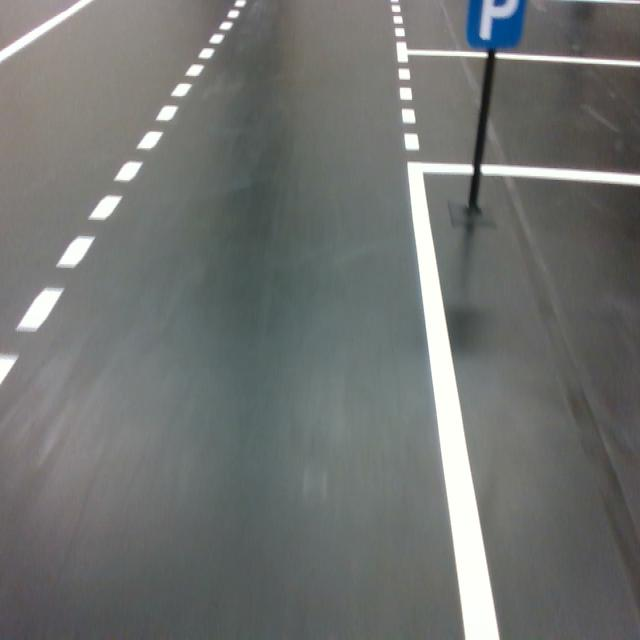parking-sign: (464, 0, 528, 49)
